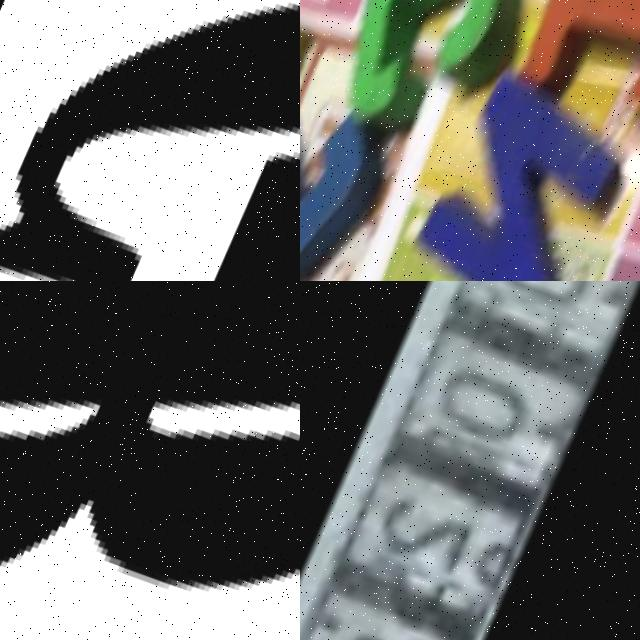0: (412, 351, 541, 457), (478, 281, 607, 320)
2: (364, 480, 480, 582)
8: (332, 614, 456, 640)
C: (318, 0, 539, 150)
G: (0, 0, 300, 281)
I: (502, 0, 640, 136)
J: (300, 65, 412, 281)
N: (398, 78, 640, 281)
